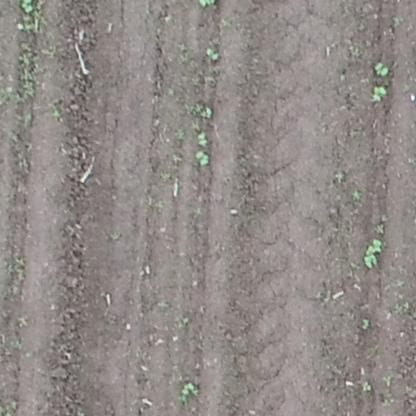vc: (361, 234, 382, 271), (177, 379, 198, 402), (369, 85, 390, 102), (205, 45, 224, 63), (373, 61, 393, 77), (195, 131, 215, 146), (194, 151, 212, 166), (201, 103, 214, 119), (19, 2, 35, 13)
